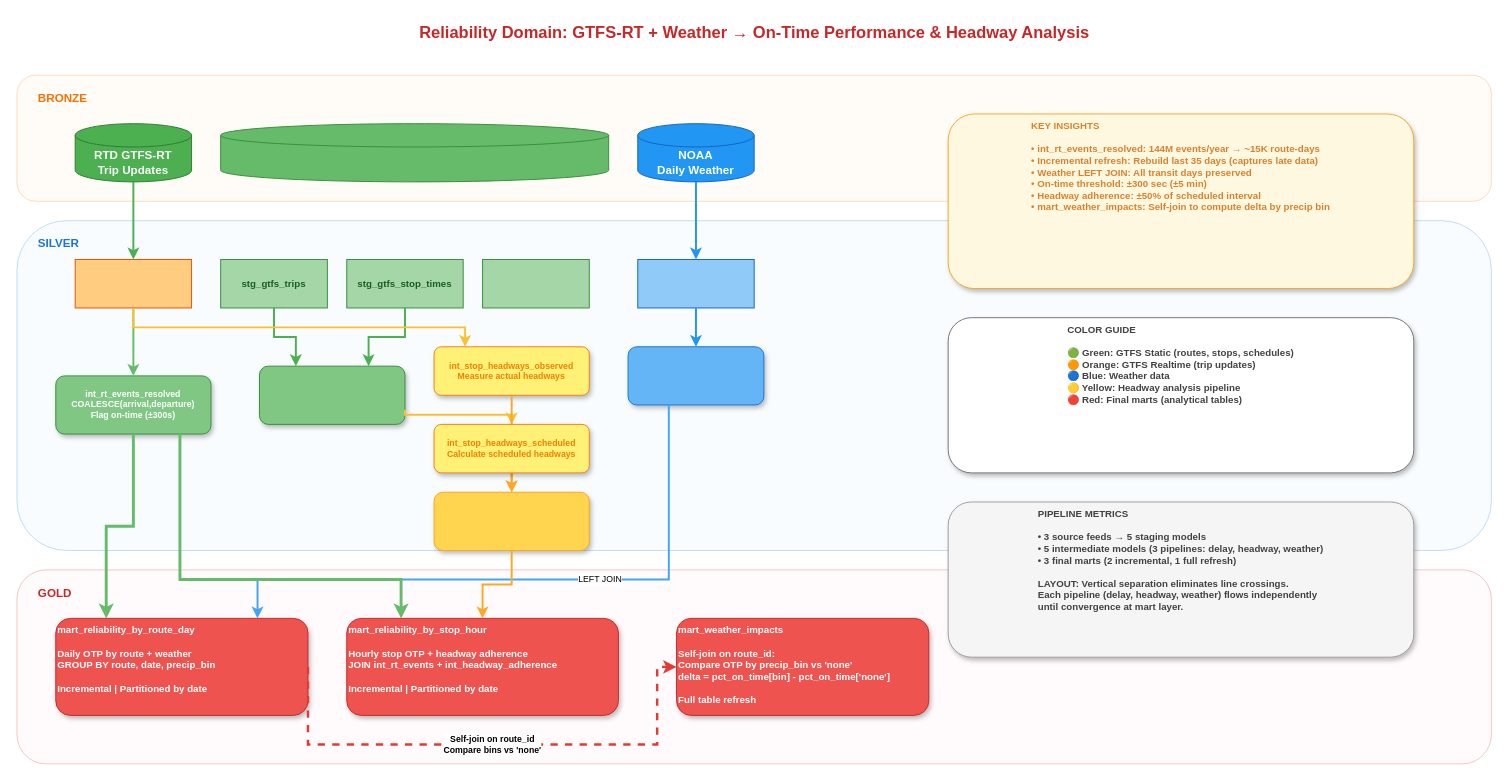
Some shapes in this 1508 by 781 pixel diagram are drawn without their labels. The centre of each missing label's shape, as x and y in pixels:
"int_headway_adherence Join obs ↔ sched Flag adherent (±50%)" belongs at point (512, 522).
"int_scheduled_arrivals Parse GTFS timetables" belongs at point (333, 396).
"int_weather_by_date Denormalized for joins" belongs at point (696, 377).
"RTD GTFS Static Feed" belongs at point (414, 152).
"stg_gtfs_routes" belongs at point (535, 283).
"stg_rt_events (Unified RT stream)" belongs at point (133, 283).
"stg_weather (Deduped)" belongs at point (695, 283).
